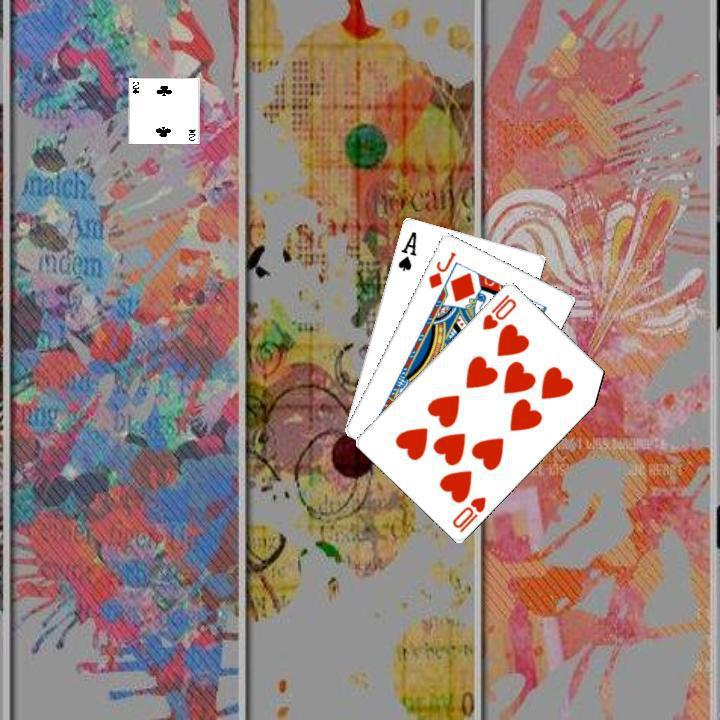10: (447, 492, 488, 534), (478, 289, 518, 332)
A: (393, 226, 418, 272)
J: (424, 247, 458, 290)
